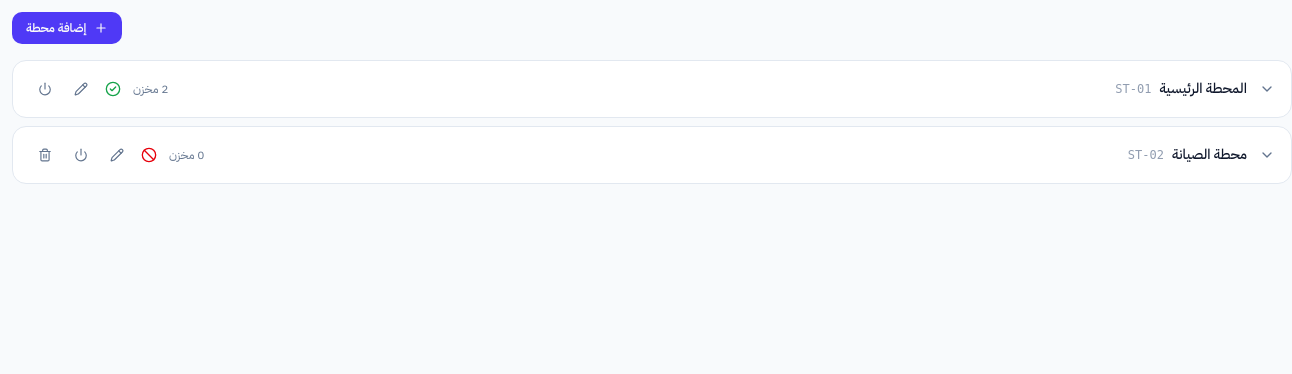
it: StationsWarehouses — read-only accordion › expands stations independently and collapses on a second click
This screenshot has width=1292, height=374.
Click the button "المحطة الرئيسية ST-01 2 مخزن" at (1203, 88), box 105,79 -> 1275,99
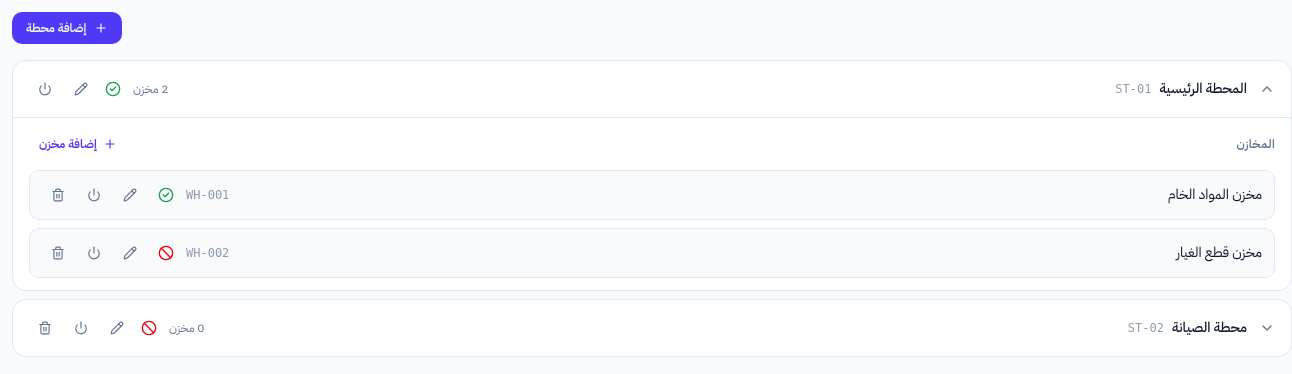
Result: the button "المحطة الرئيسية ST-01 2 مخزن" is expanded
Click the button "المحطة الرئيسية ST-01 2 مخزن" at (1203, 88), box 105,79 -> 1275,99
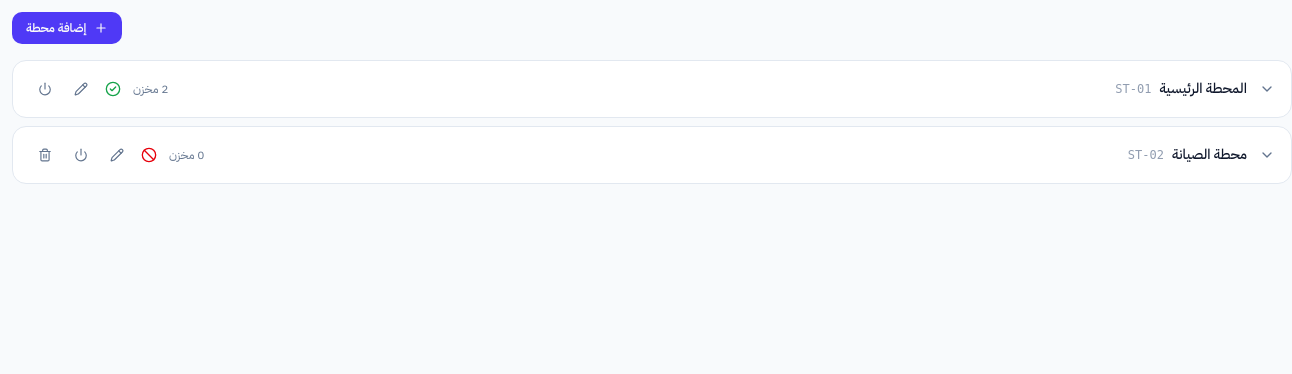
Result: the button "المحطة الرئيسية ST-01 2 مخزن" is collapsed at 105,79 -> 1275,99
